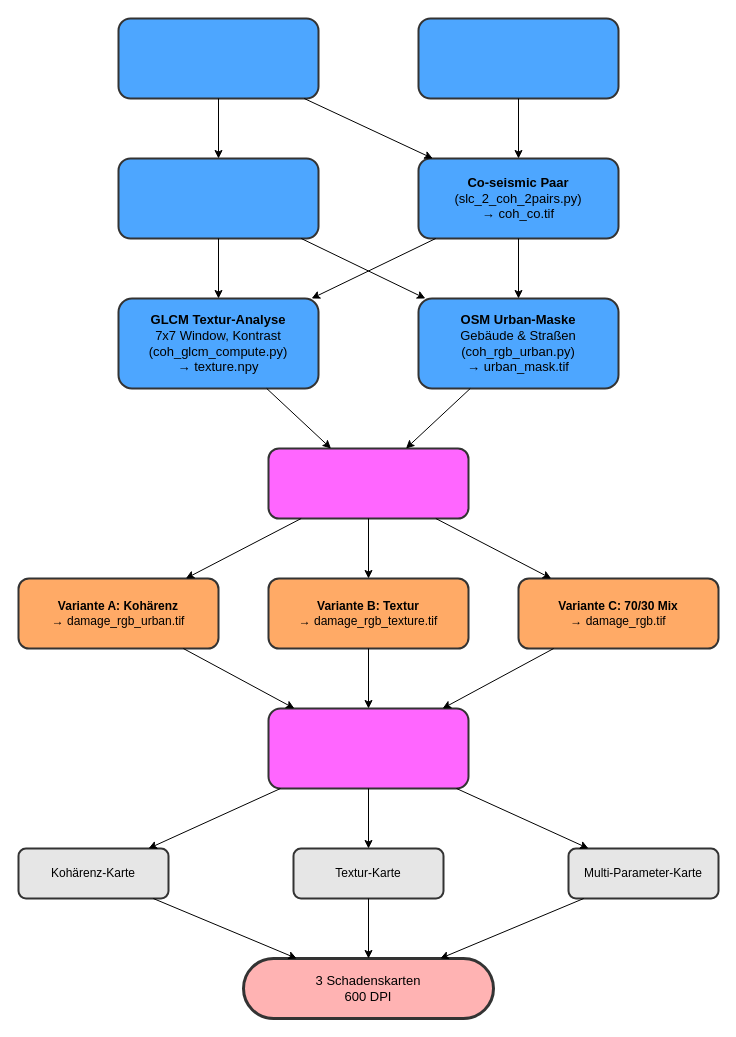
This 736x1037 diagram has some shape labels left out. Each missing label, with the centre of its shape:
"DL von Sentinel-1 API 1 post SLC (dl_slc_2x1.py)" goes at point 518,58.
"DL von Sentinel-1 API 2 pre SLCs (dl_slc_2x1.py)" goes at point 218,58.
"Karten-Visualisierung WMS Basemap + Overlay (create_maps.py)" goes at point 368,748.
"Pre-seismic Paar (slc_2_coh_2pairs.py) → coh_pre.tif" goes at point 218,198.
"Schadens-Analyse (coh_glcm_analyze.py)" goes at point 368,483.
